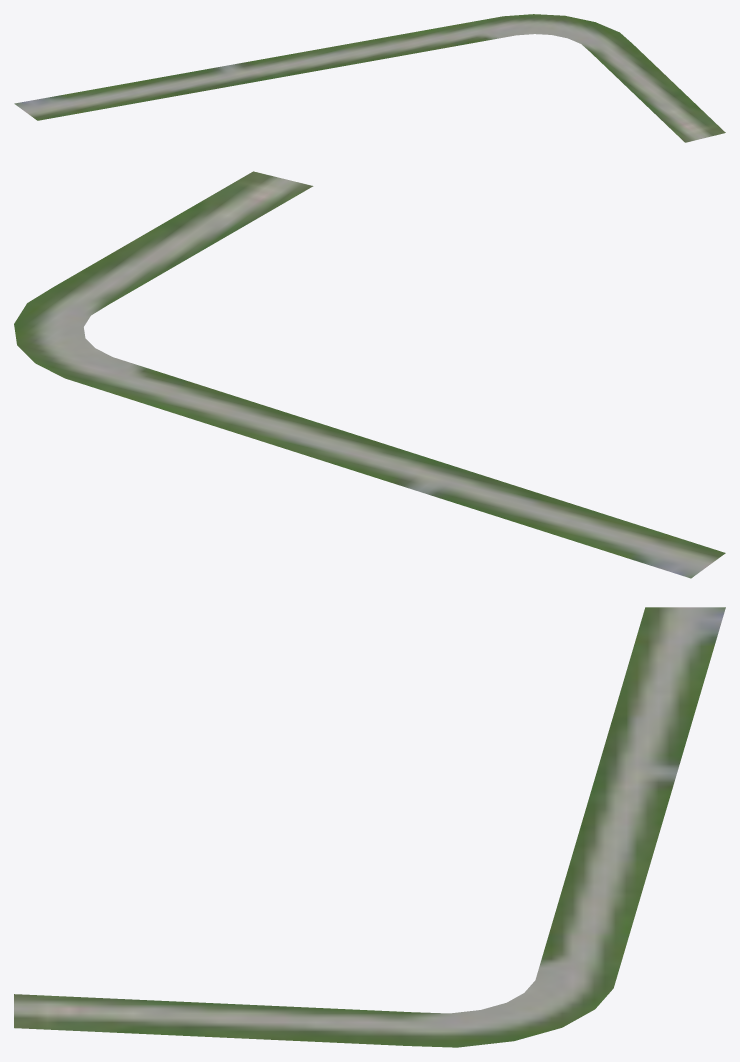
Rendered from LSZR_1_0.glb.
3 renders of one model, top to bottom at view 1: azimuth 30°, elevation 25°; view 2: azimuth 150°, elevation 25°; view 3: azimuth 270°, elevation 25°, orthographic. The views are drawn at different scales.
Parts seen in each view (by area): view 1: pavement_LSZR_pavement_5521_2523; view 2: pavement_LSZR_pavement_5521_2523; view 3: pavement_LSZR_pavement_5521_2523.
Part boxes in pixels (x1,y1,x2,y2): pavement_LSZR_pavement_5521_2523: (14,14,725,142); pavement_LSZR_pavement_5521_2523: (14,171,725,578); pavement_LSZR_pavement_5521_2523: (14,607,725,1047).
Size of the model in its own units: 195 by 0 by 133.
1 material, 1 textured.
